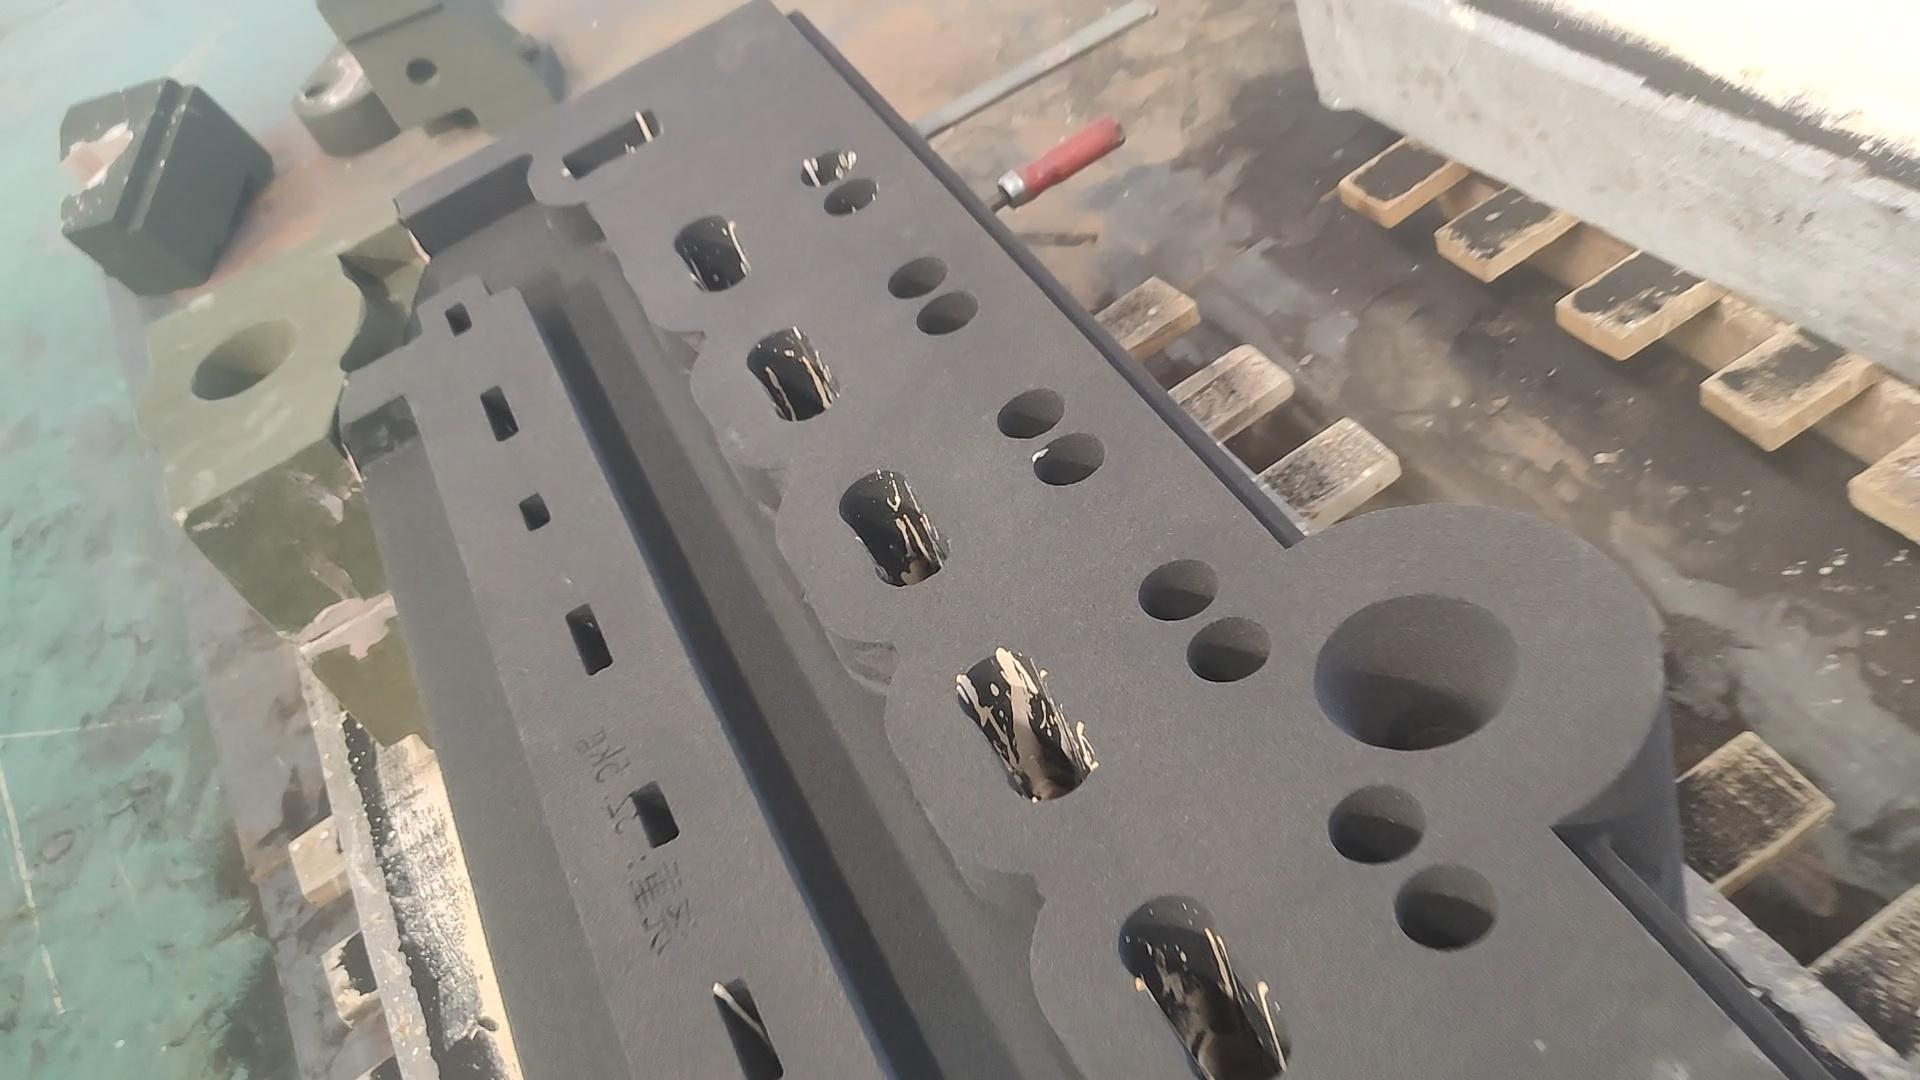pouring hole: (1313, 592, 1519, 752), (190, 319, 301, 400)
